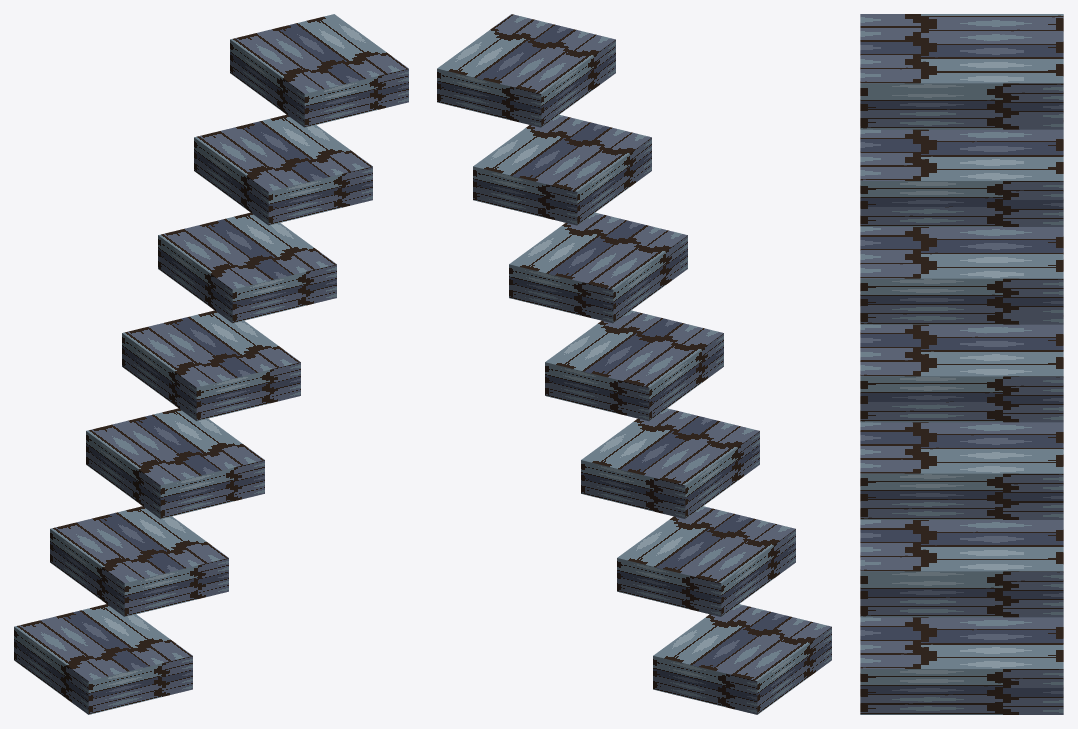
Rendered from RUI-04_Escalera_volada.gltf.
The picture shows the model from 3 angles, left to right: view 1: azimuth 30°, elevation 25°; view 2: azimuth 150°, elevation 25°; view 3: azimuth 270°, elevation 25°; orthographic projection. The views are drawn at different scales.
Parts seen in each view (by area): view 1: RUI-04_Escalera_volada-col; view 2: RUI-04_Escalera_volada-col; view 3: RUI-04_Escalera_volada-col.
Boxes of the visible parts, x1,y1,x2,y2 form: RUI-04_Escalera_volada-col: [14, 14, 408, 714]; RUI-04_Escalera_volada-col: [437, 14, 831, 714]; RUI-04_Escalera_volada-col: [860, 14, 1063, 714].
Bounding box in the file's own units: 1.29 × 2.19 × 0.52.
Materials: 1 (1 with a texture image).
